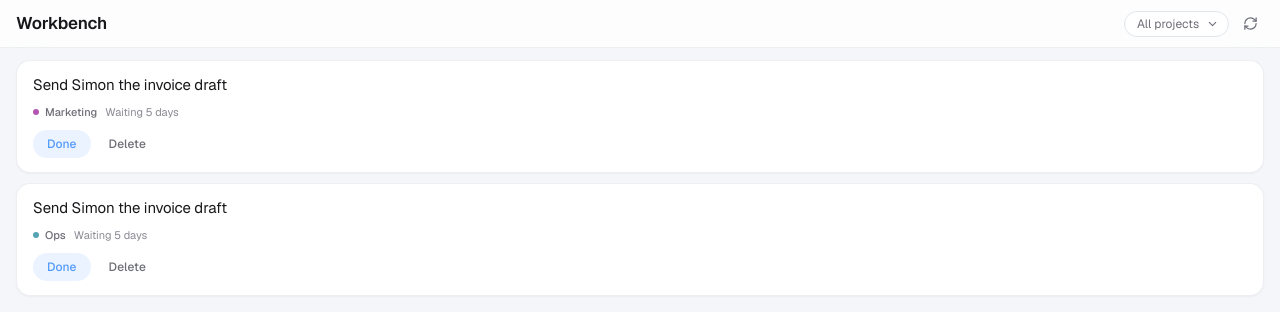
Test: WorkbenchPage — project filter (round 3, item 2) › falls back to "All projects" once the selected project has no entries left
Select "Ops" in the dropdown with test id "workbench-project-filter": (1176, 24) [1124, 10, 1229, 36]
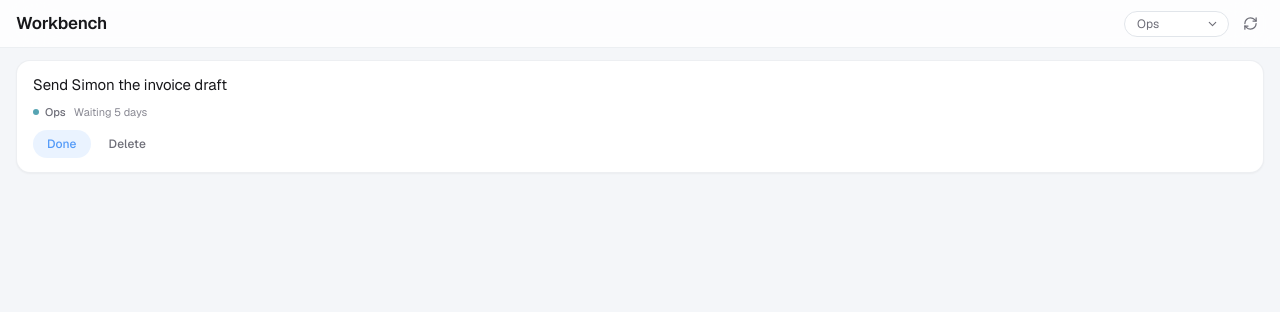
Result: the button with test id "workbench-card-entry-proj-a-a1" is gone
Click the button with test id "workbench-card-exit-fulfilled": (62, 144) [33, 130, 91, 158]
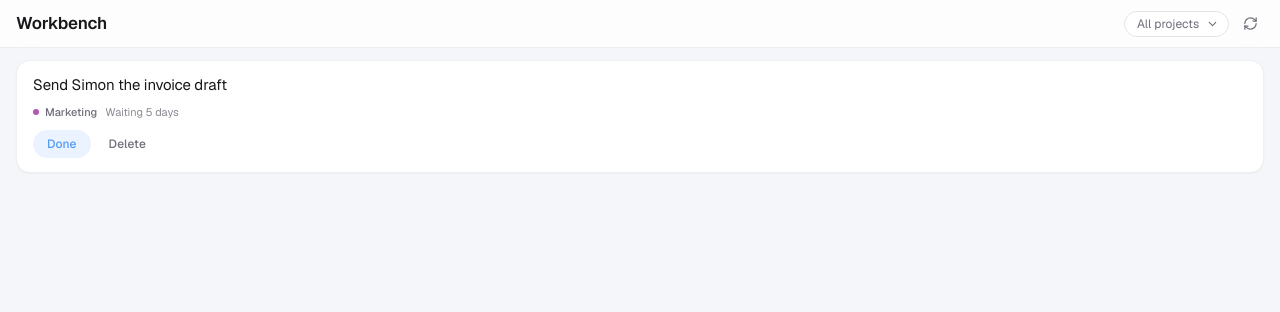
Result: the button with test id "workbench-card-entry-proj-a-a1" is shown at [16, 60, 1264, 173]
